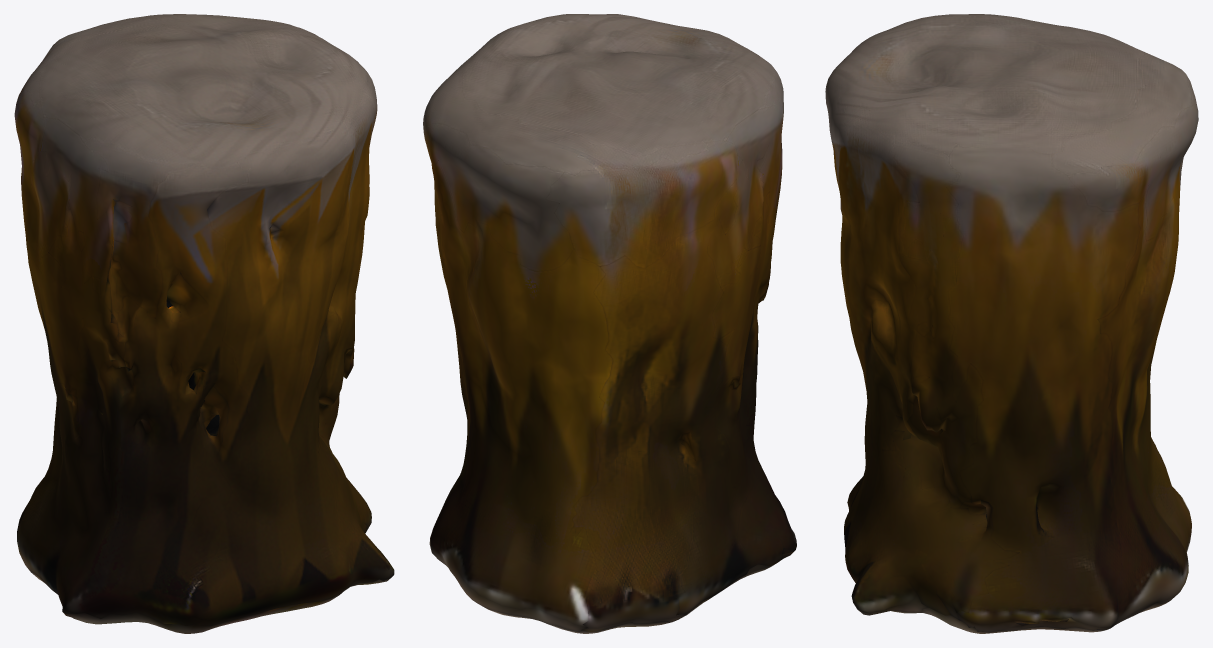
3 views of the same model, side by side, from view 1: azimuth 30°, elevation 25°; view 2: azimuth 150°, elevation 25°; view 3: azimuth 270°, elevation 25° (orthographic). The views are drawn at different scales.
Parts seen in each view (by area): view 1: model.obj; view 2: model.obj; view 3: model.obj.
Boxes of the visible parts, x1,y1,x2,y2 form: model.obj: [14, 14, 394, 633]; model.obj: [423, 14, 796, 633]; model.obj: [825, 14, 1198, 633].
Size of the model in its own units: 0.6736 by 1.07 by 0.6866.
Materials: 1 (1 with a texture image).
